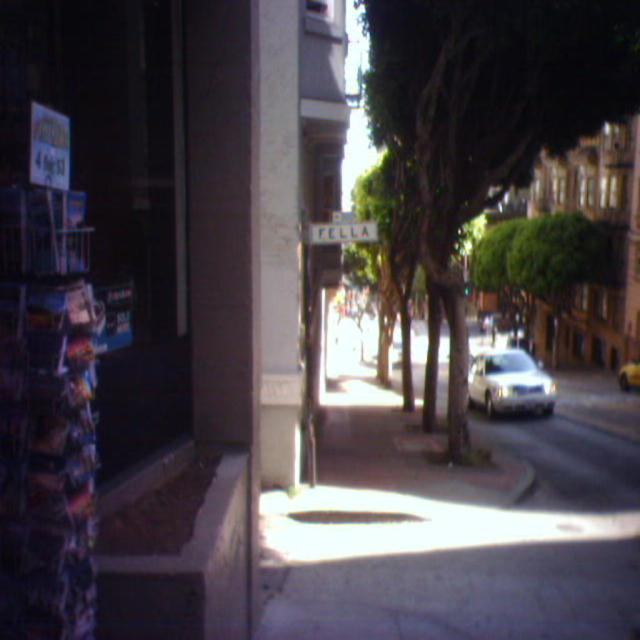car: (468, 344, 562, 422)
